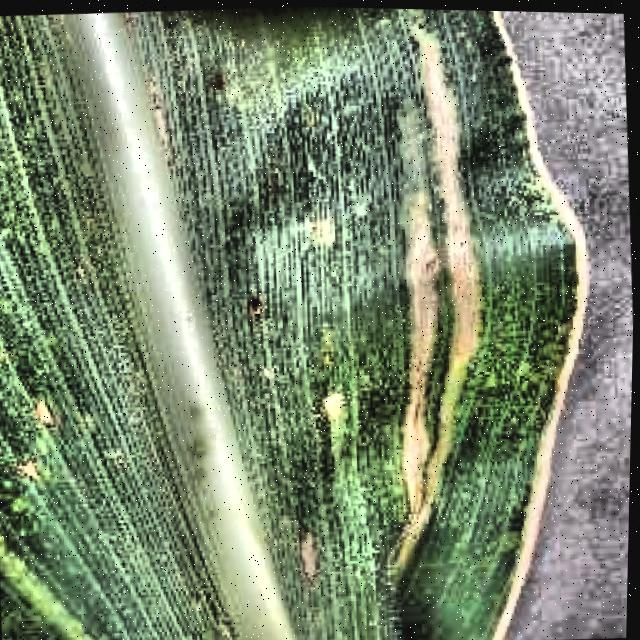gray_spot: (95, 2, 601, 640)
